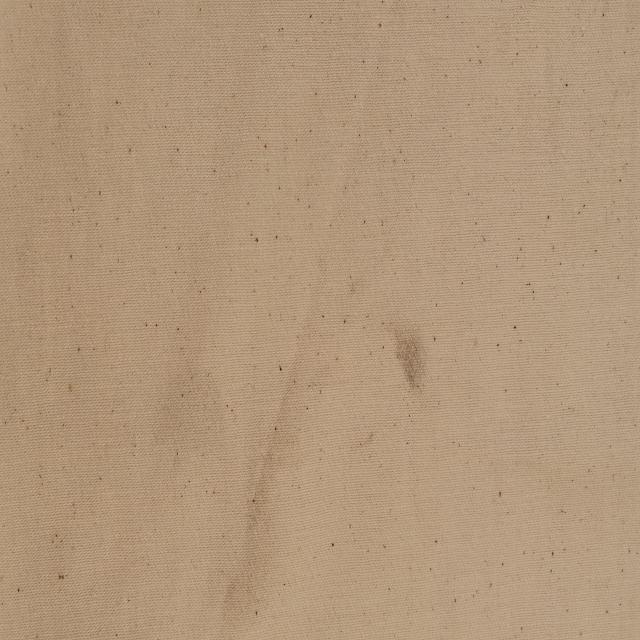taaaches: (388, 296, 438, 412)
